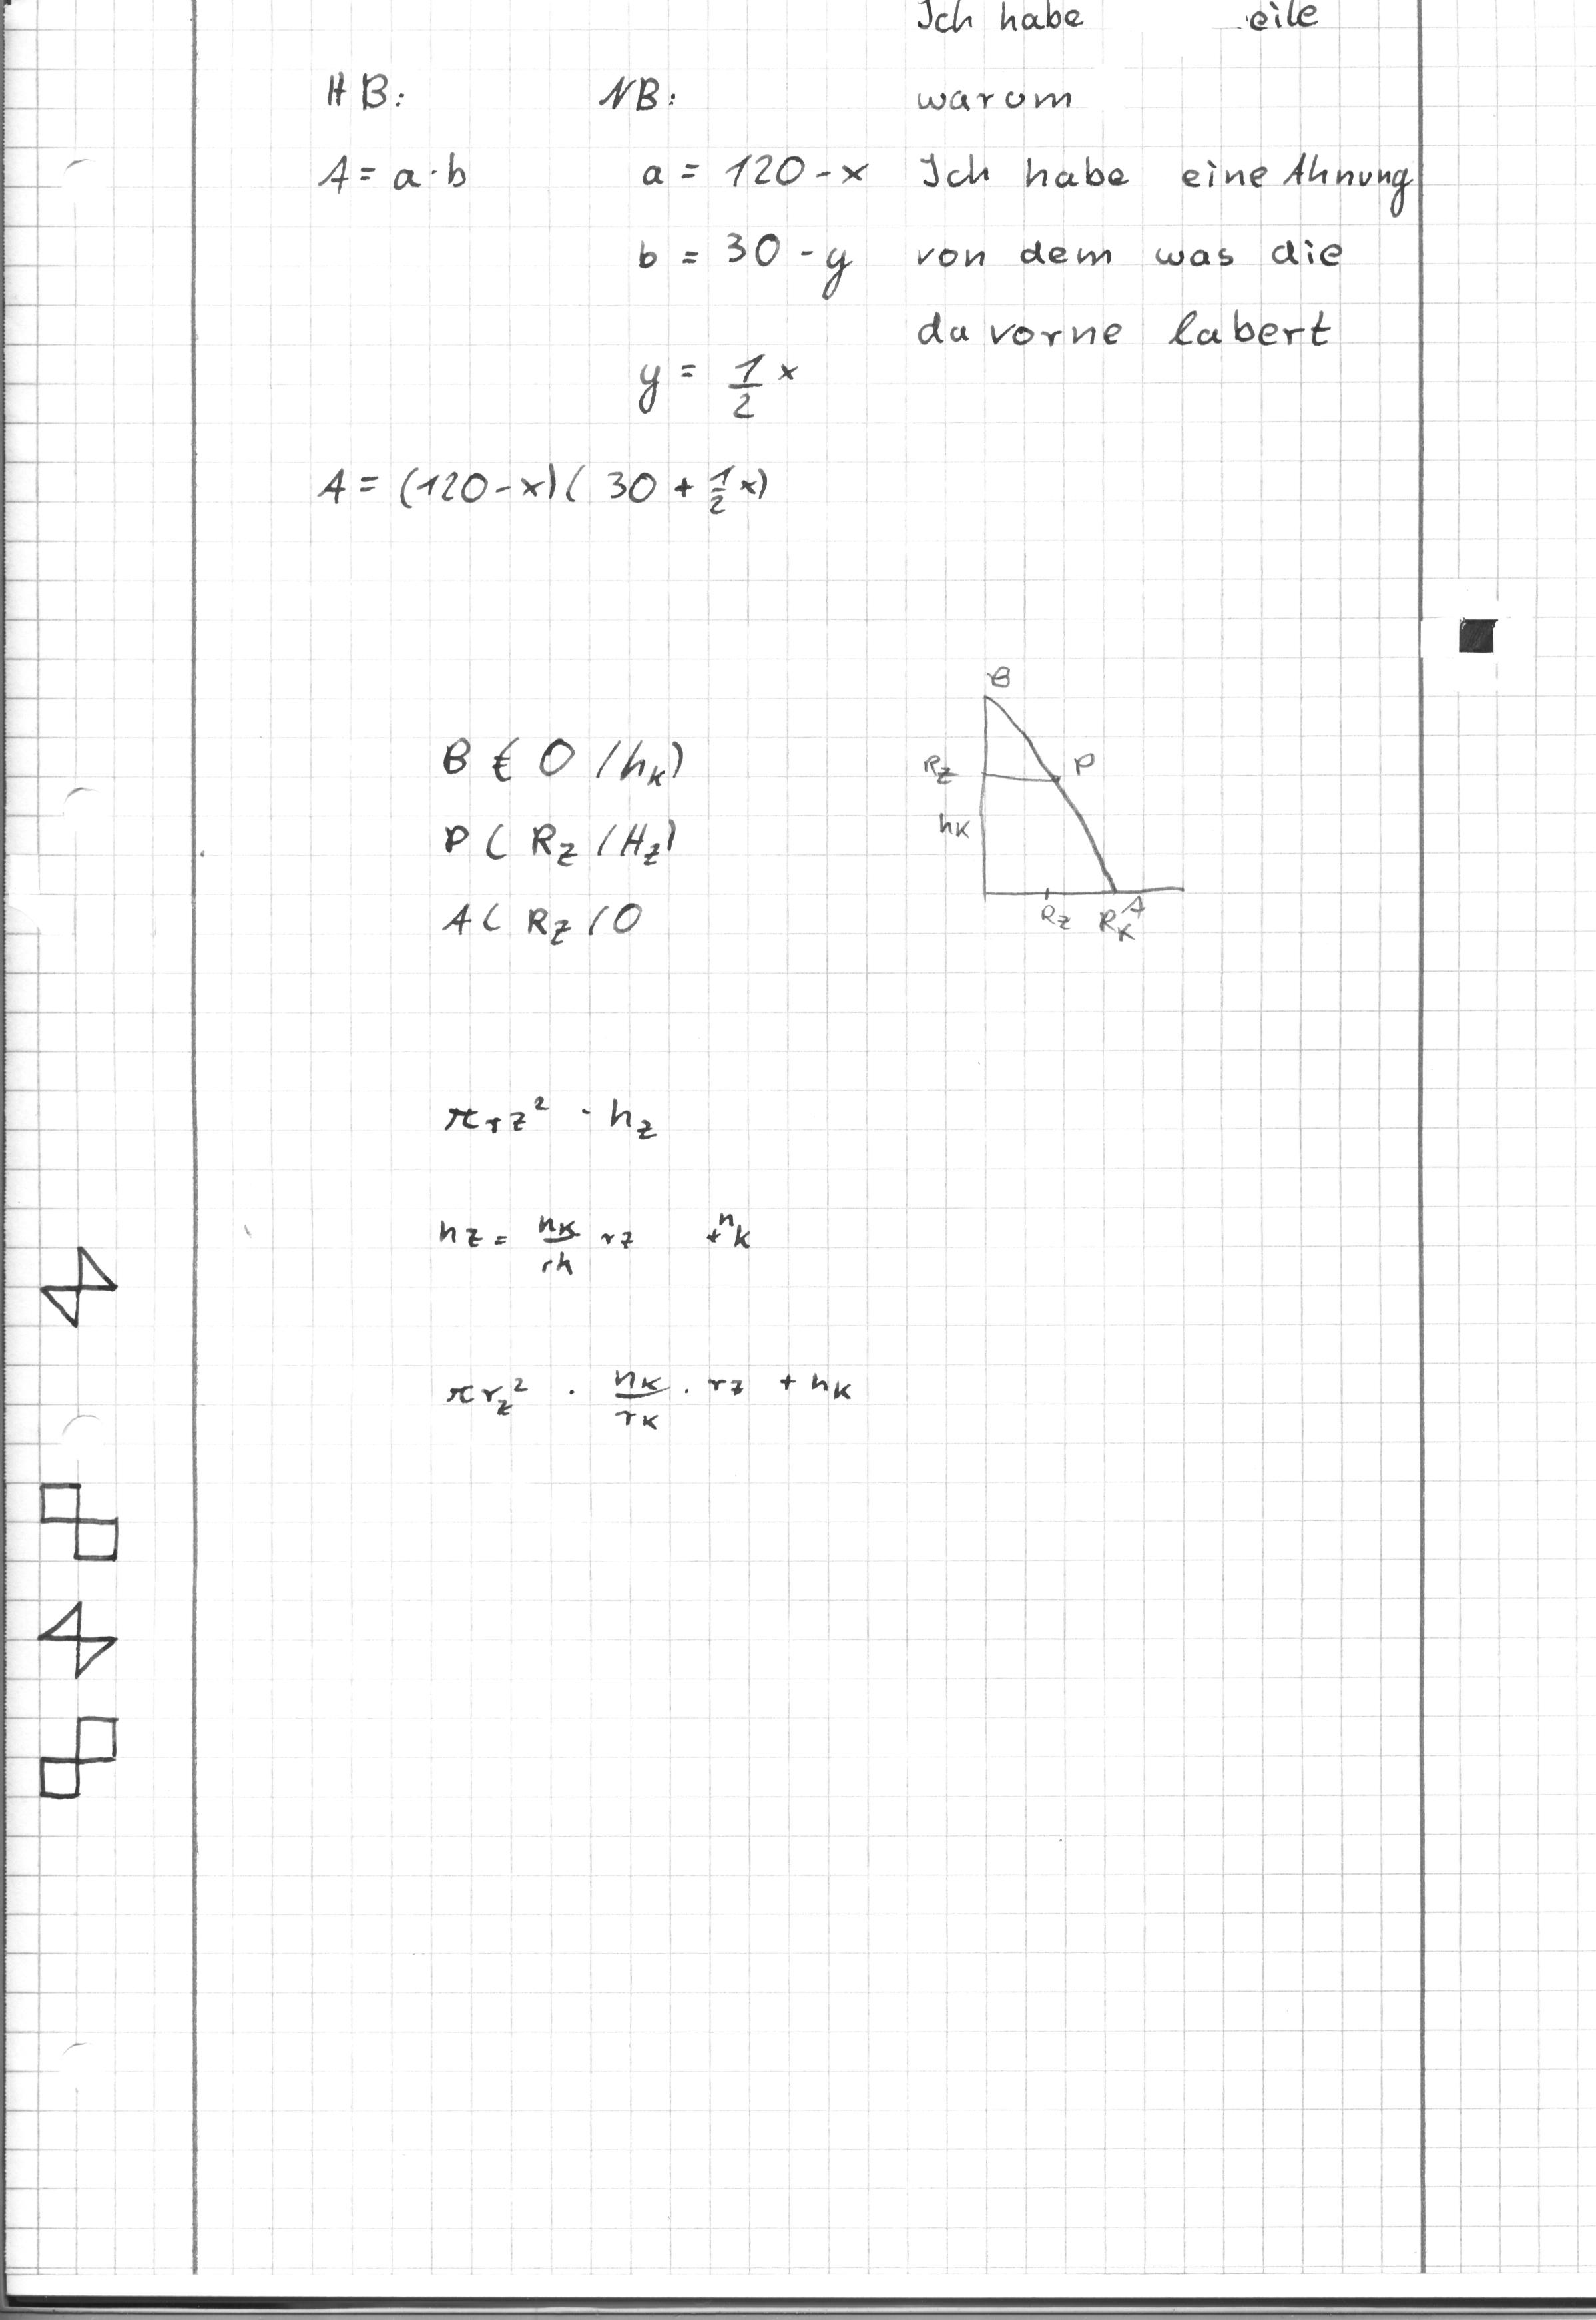word: (902, 143, 1430, 367), (423, 1079, 778, 1305), (614, 143, 884, 431), (423, 719, 694, 954), (305, 438, 789, 545), (434, 1342, 870, 1458), (308, 54, 490, 208)
